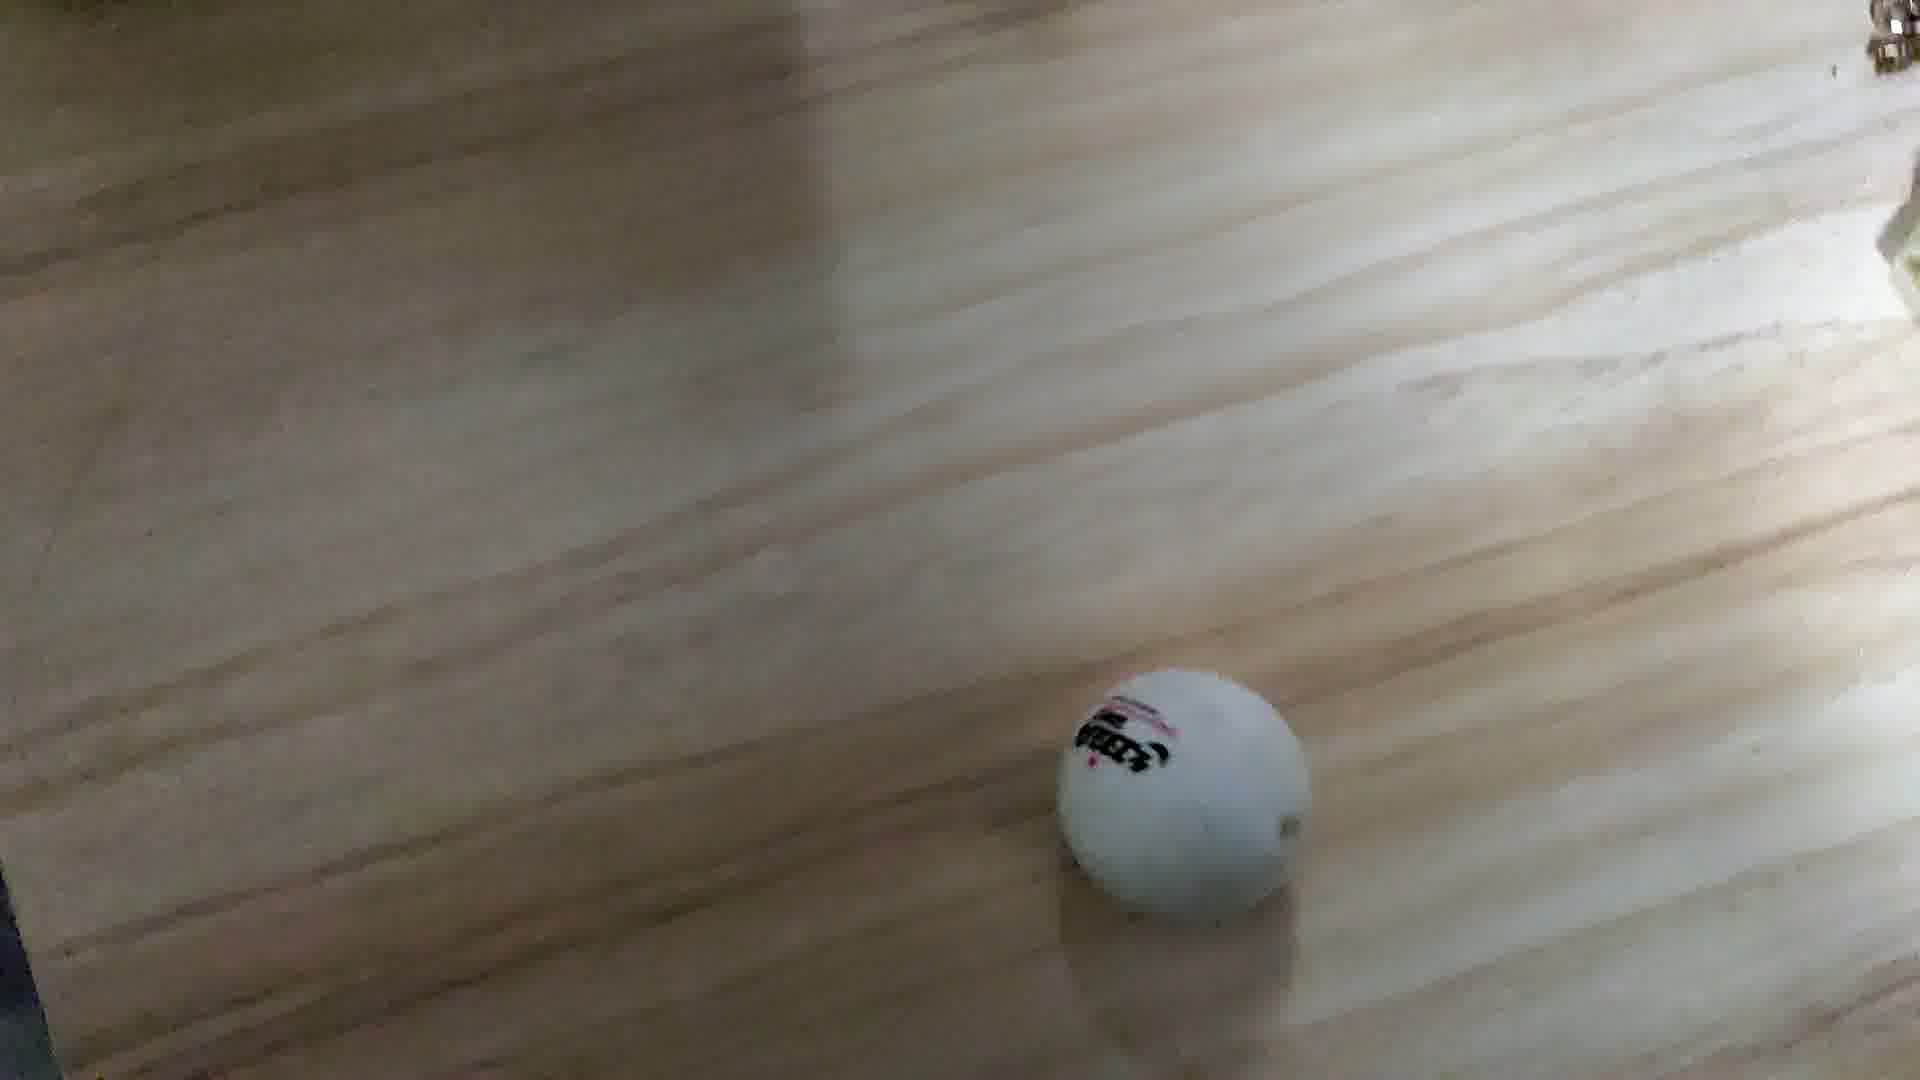Ball: (1054, 666, 1312, 928)
